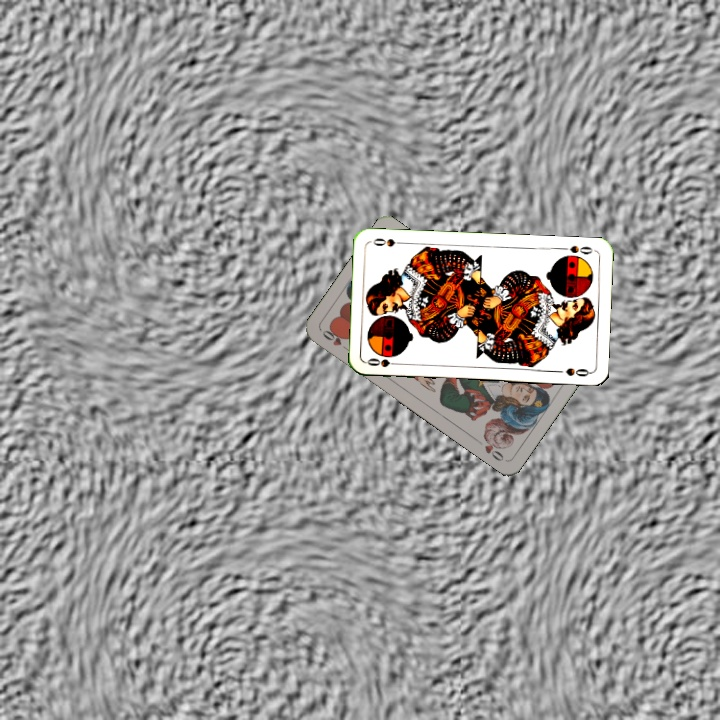HO: (318, 325, 353, 354)
SO: (363, 353, 404, 370), (556, 241, 595, 257)
